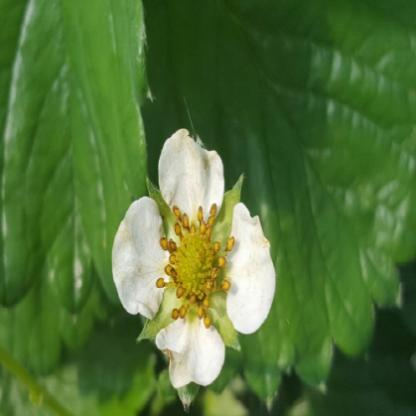Strawberry_Blossom_Blight: (150, 200, 238, 330)
